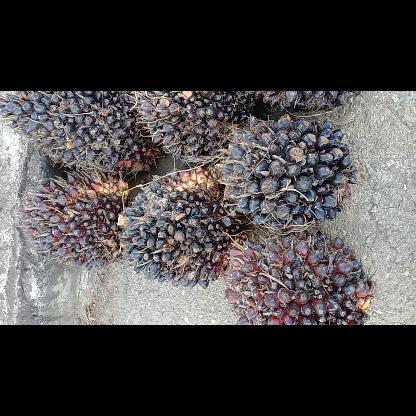TBS mentah: (215, 113, 361, 235), (114, 160, 246, 293), (220, 226, 380, 324), (0, 90, 168, 178), (17, 169, 132, 271), (126, 91, 258, 165)
